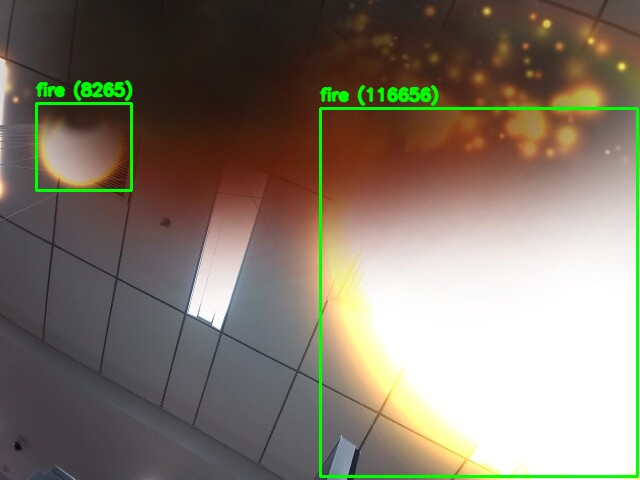fire: (320, 108, 637, 476), (36, 103, 131, 190)
